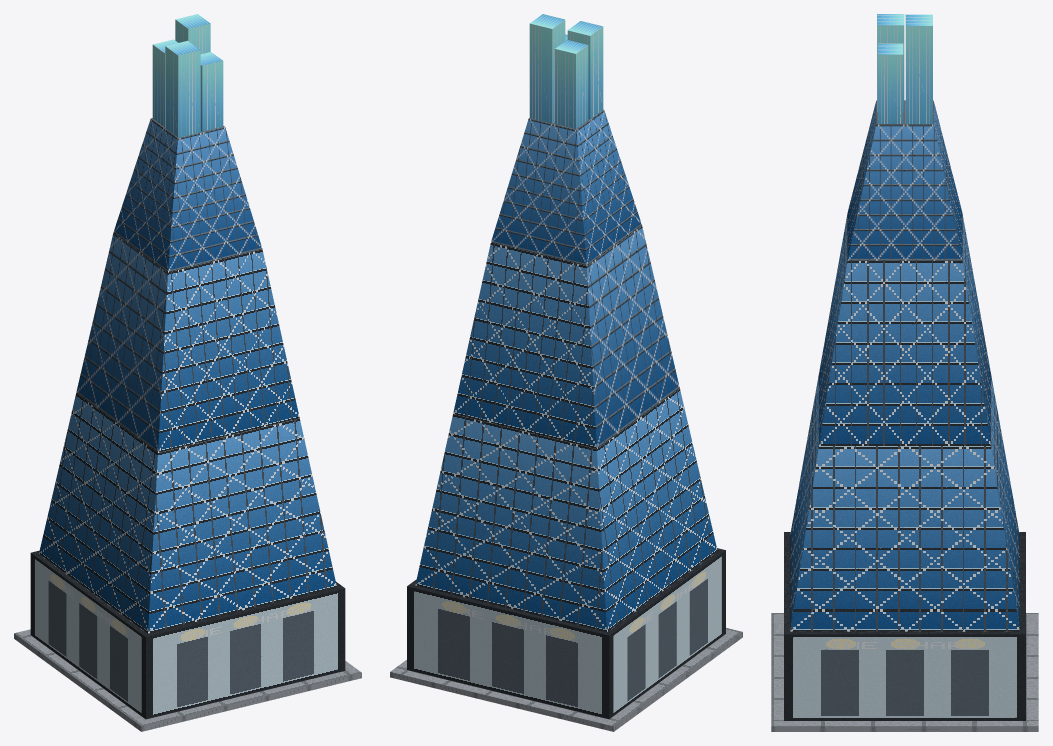
The model's file is landmark_the_shard.glb.
The picture shows the model from 3 angles, left to right: view 1: azimuth 30°, elevation 25°; view 2: azimuth 150°, elevation 25°; view 3: azimuth 270°, elevation 25°; orthographic projection. The views are drawn at different scales.
Parts seen in each view (by area): view 1: Landmark_The_Shard; view 2: Landmark_The_Shard; view 3: Landmark_The_Shard.
Boxes of the visible parts, x1=… form: Landmark_The_Shard: x1=14, y1=14, x2=361, y2=731; Landmark_The_Shard: x1=390, y1=14, x2=742, y2=731; Landmark_The_Shard: x1=771, y1=14, x2=1038, y2=731.
Bounding box in the file's own units: 8.4 × 22.9 × 8.4.
Materials: 1 (1 with a texture image).
